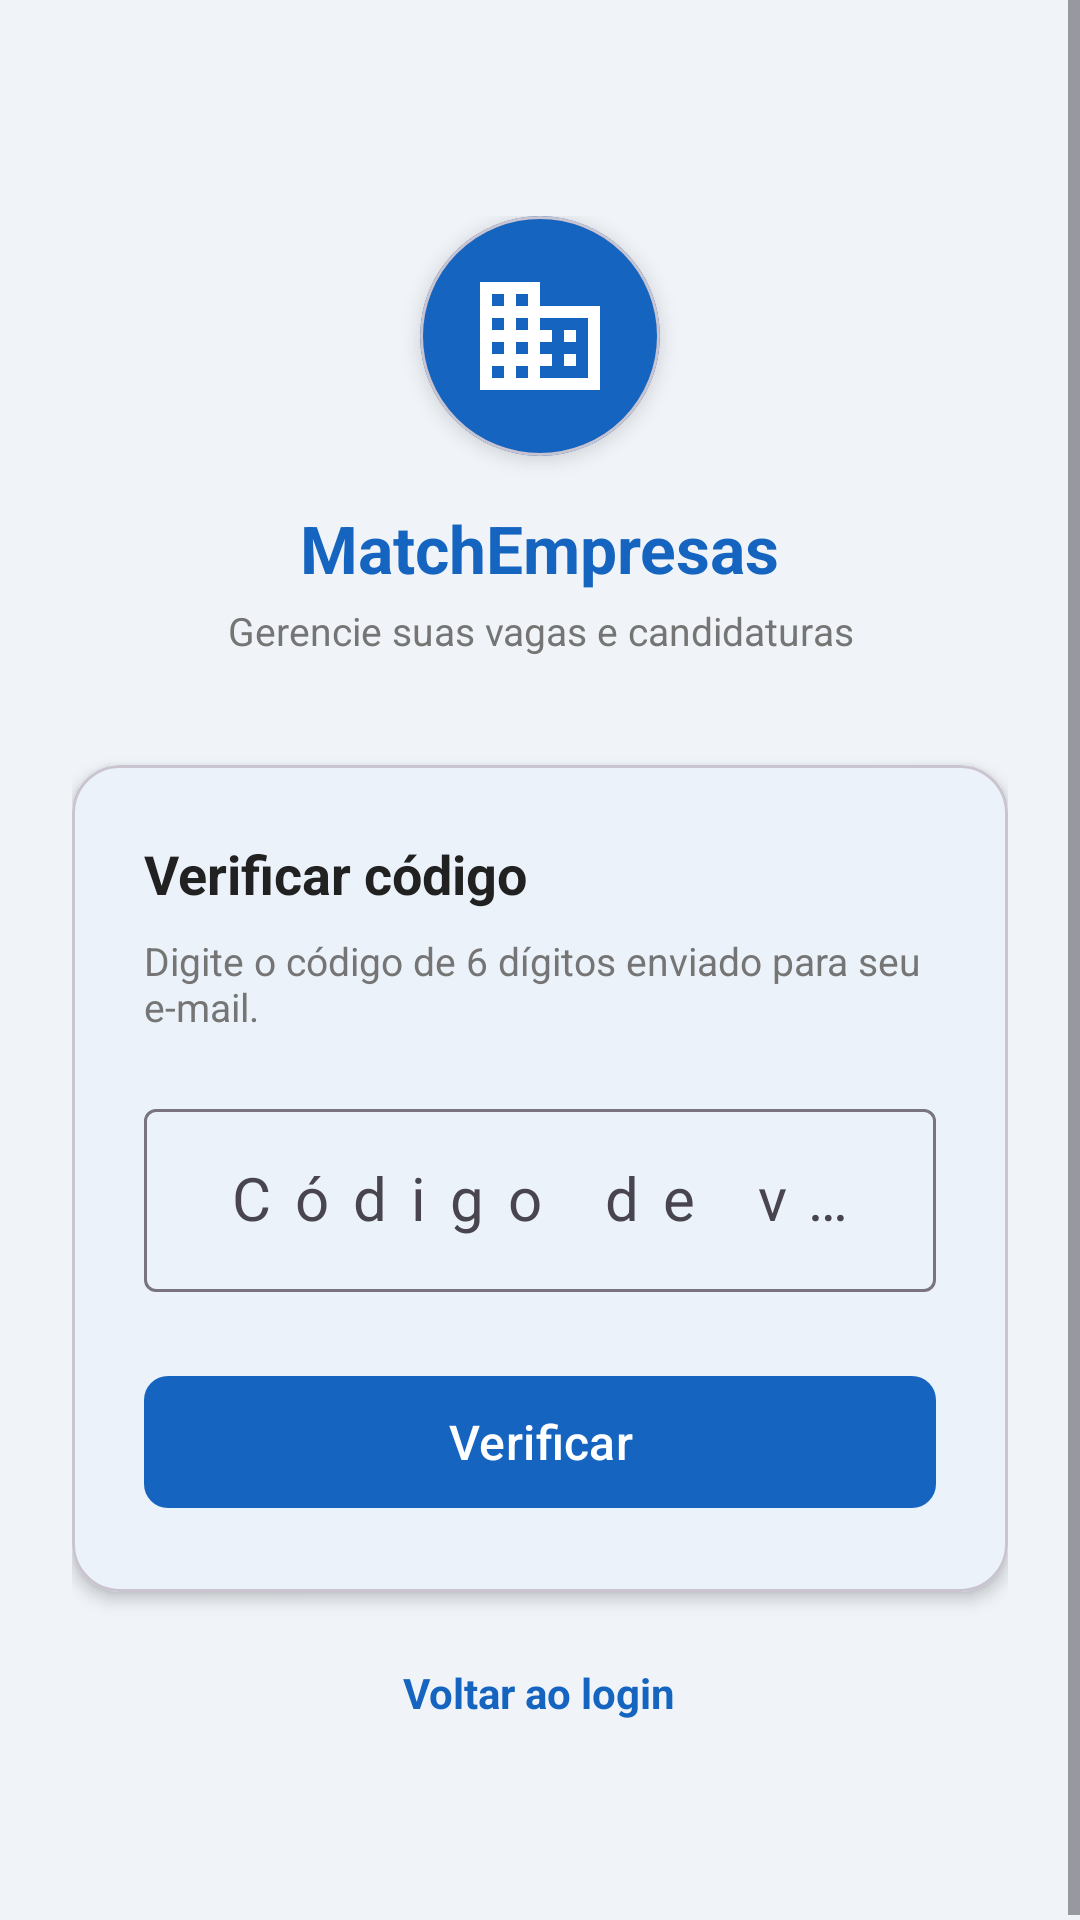

Where icons sit on this 1080px x 1920px app screen, as (x1, y1, x2, y2):
business: (420, 216, 660, 456)
